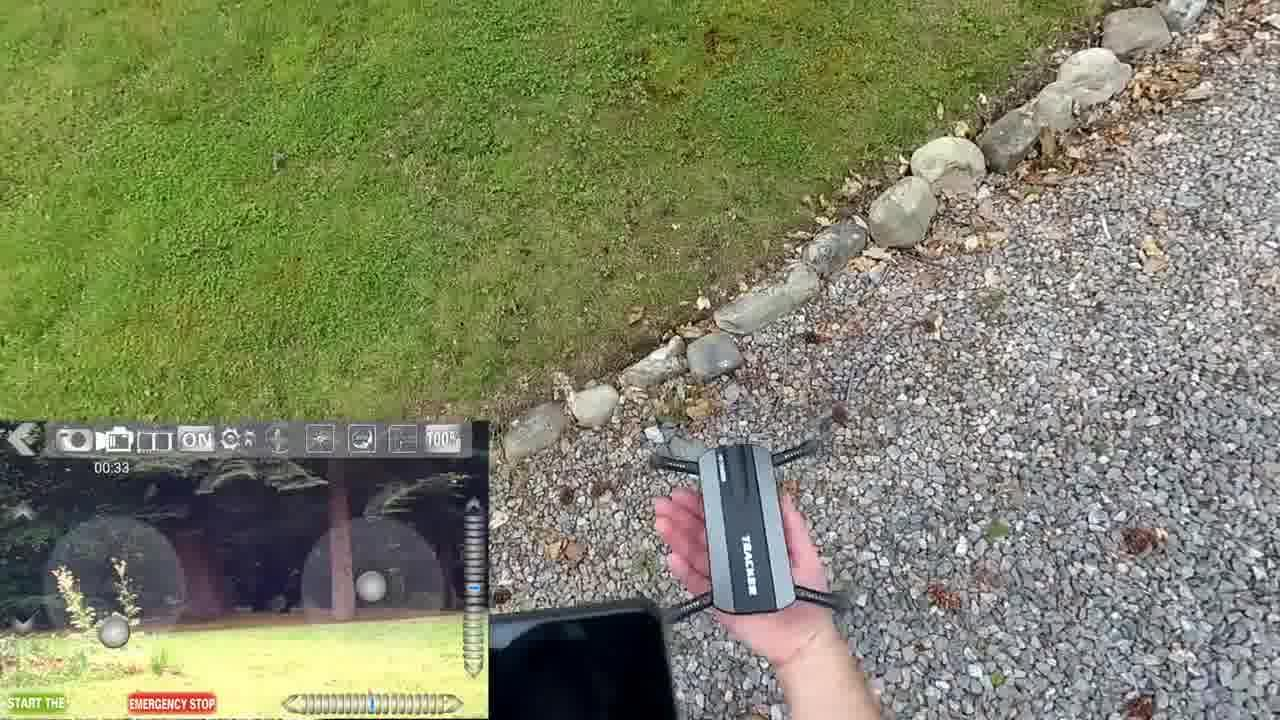drone: (618, 430, 871, 632)
